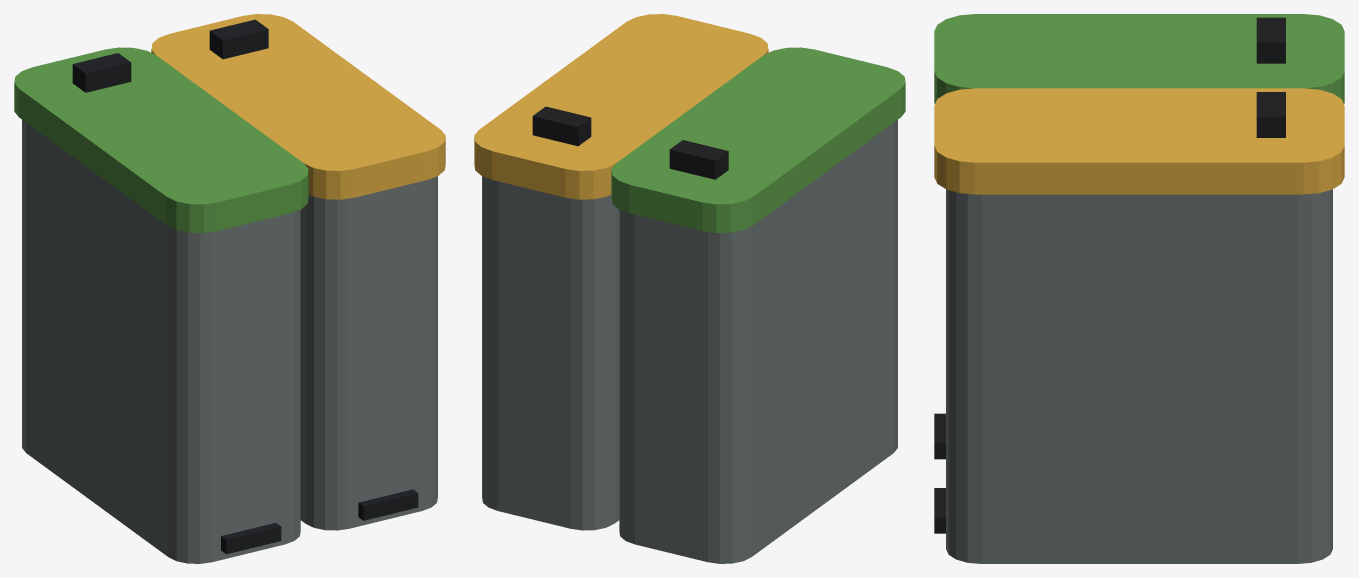
File: trash_can.glb
3 views of the same model, side by side, from view 1: azimuth 30°, elevation 25°; view 2: azimuth 150°, elevation 25°; view 3: azimuth 270°, elevation 25° (orthographic). The views are drawn at different scales.
Visible parts, largest first — view 1: trash_can_Body; view 2: trash_can_Body; view 3: trash_can_Body.
Part boxes in pixels (x1,y1,x2,y2): trash_can_Body: [14, 14, 445, 563]; trash_can_Body: [474, 14, 905, 563]; trash_can_Body: [934, 14, 1344, 563].
Size of the model in its own units: 0.6 by 0.8 by 0.7.
